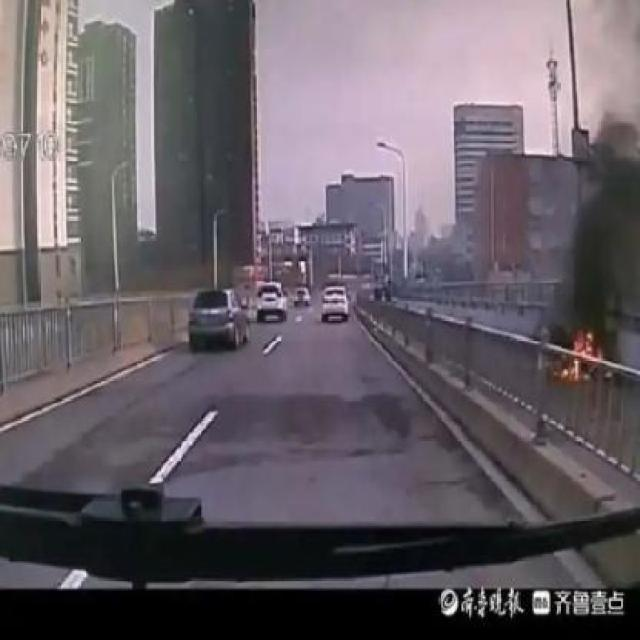Fire: (556, 324, 598, 381)
Smoke: (572, 134, 636, 358)
